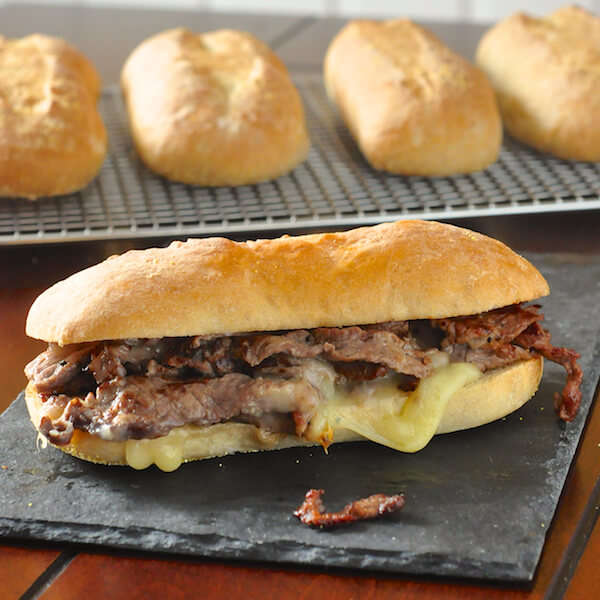sandwich: (1, 208, 590, 480)
